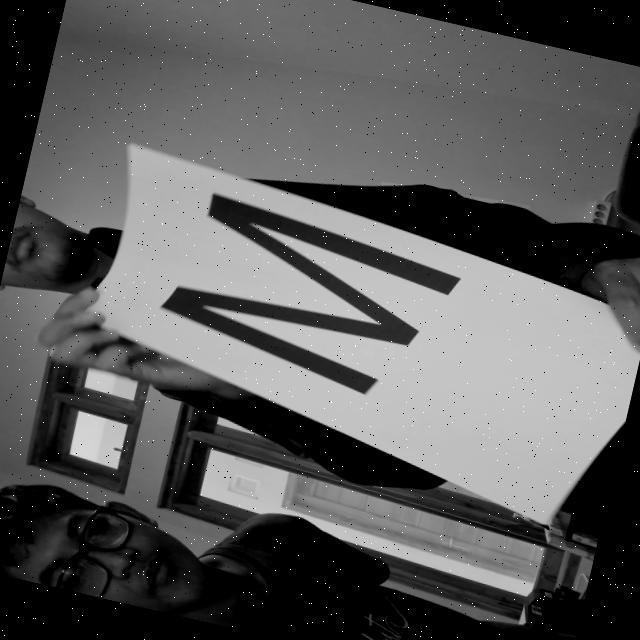m: (134, 174, 478, 418)
